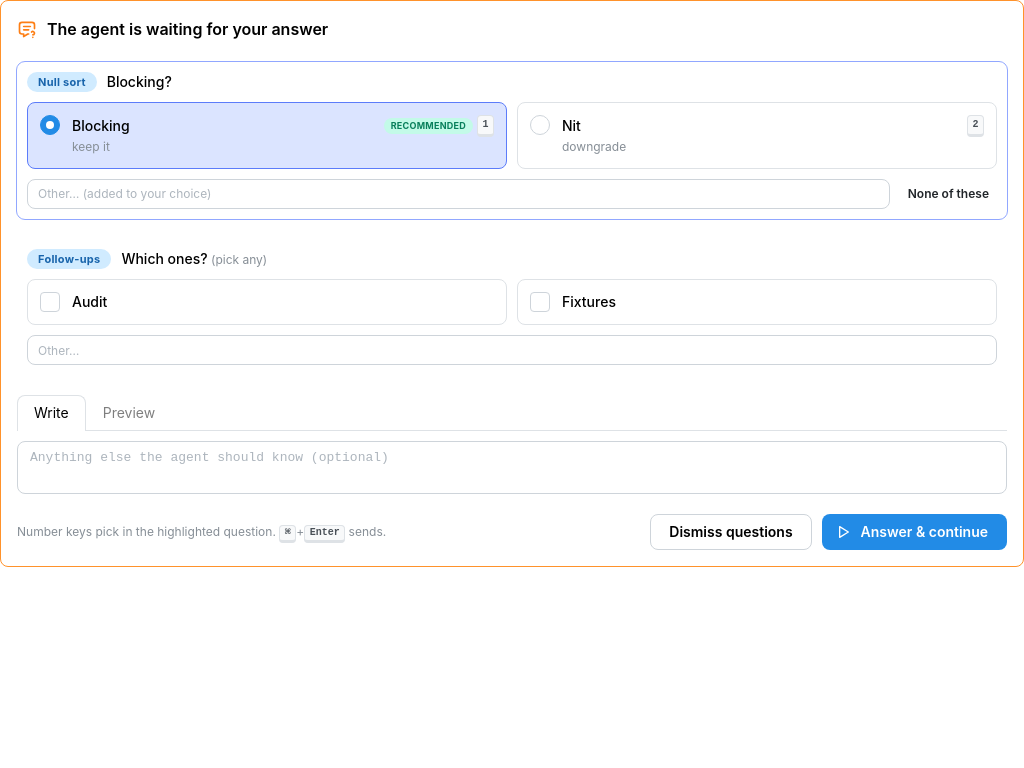
Test: QuestionPanel › None of these drops the single choice, so the Other text is the whole answer
Later steps or results of the test are not shown.
Click the button "None of these". click: x=948, y=194
box: x1=900 y1=183 x2=997 y2=205
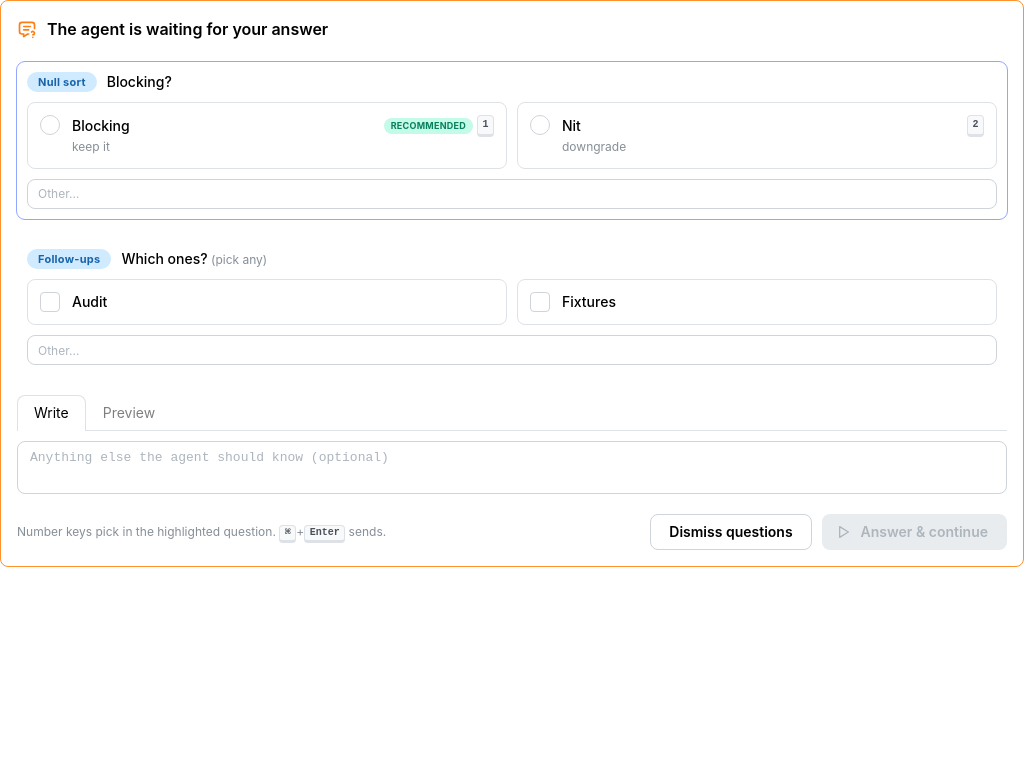
Expected: the button "Answer & continue" is disabled, x1=822 y1=514 x2=1007 y2=550
